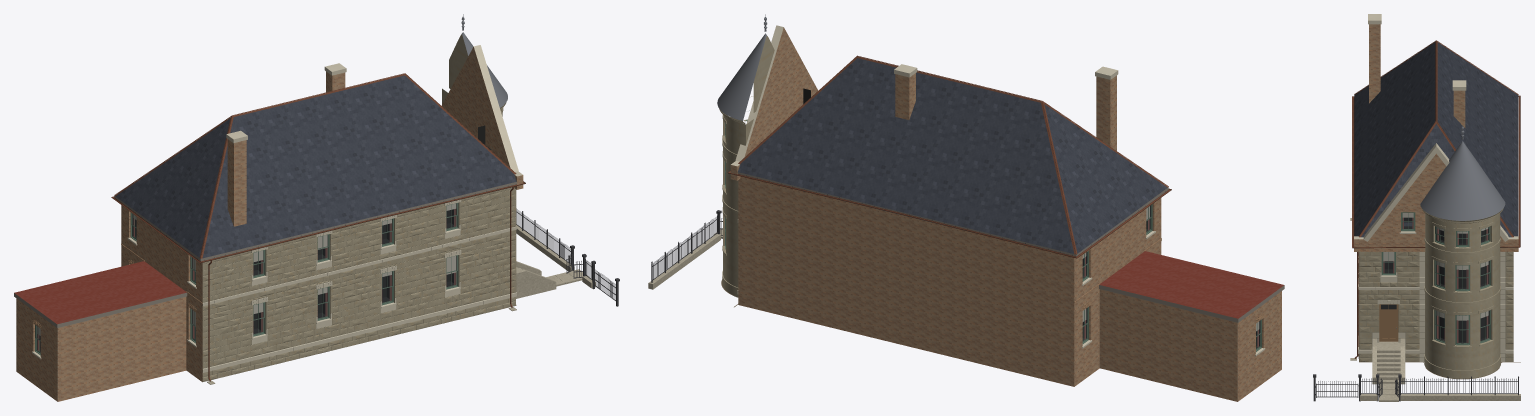
The model's file is murdoch_house_2130_prairie__as_mapped_1904.glb.
The picture shows the model from 3 angles, left to right: view 1: azimuth 30°, elevation 25°; view 2: azimuth 150°, elevation 25°; view 3: azimuth 270°, elevation 25°; orthographic projection. The views are drawn at different scales.
Parts seen in each view (by area): view 1: murdoch_house_2130_prairie__as_mapped_1904; view 2: murdoch_house_2130_prairie__as_mapped_1904; view 3: murdoch_house_2130_prairie__as_mapped_1904.
Boxes of the visible parts, x1,y1,x2,y2 form: murdoch_house_2130_prairie__as_mapped_1904: (14, 14, 619, 401); murdoch_house_2130_prairie__as_mapped_1904: (648, 14, 1284, 401); murdoch_house_2130_prairie__as_mapped_1904: (1313, 14, 1520, 401).
Size of the model in its own units: 36.88 by 16.96 by 13.24.
Materials: 25 (14 with a texture image).
